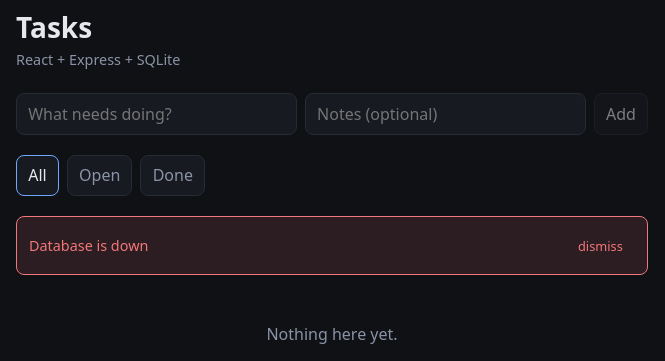
App › surfaces an API failure and lets the user dismiss it
This screenshot has width=665, height=361.
Expected: the message shows "Database is down", [29,236,148,255]
Click the button "dismiss" at (600,246), box [566,227,635,264]
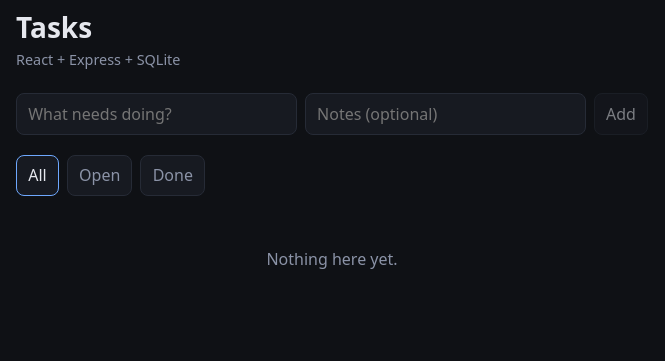
Expected: the message "Database is down dismiss" is gone
